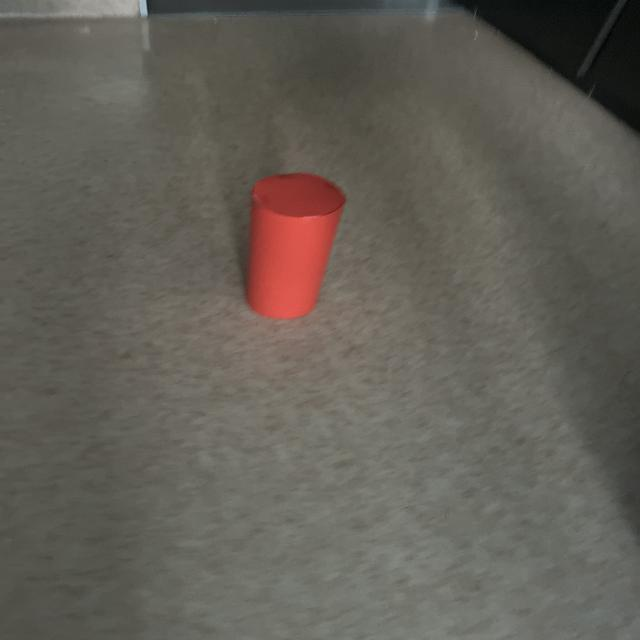przeszkoda: (247, 173, 345, 319)
